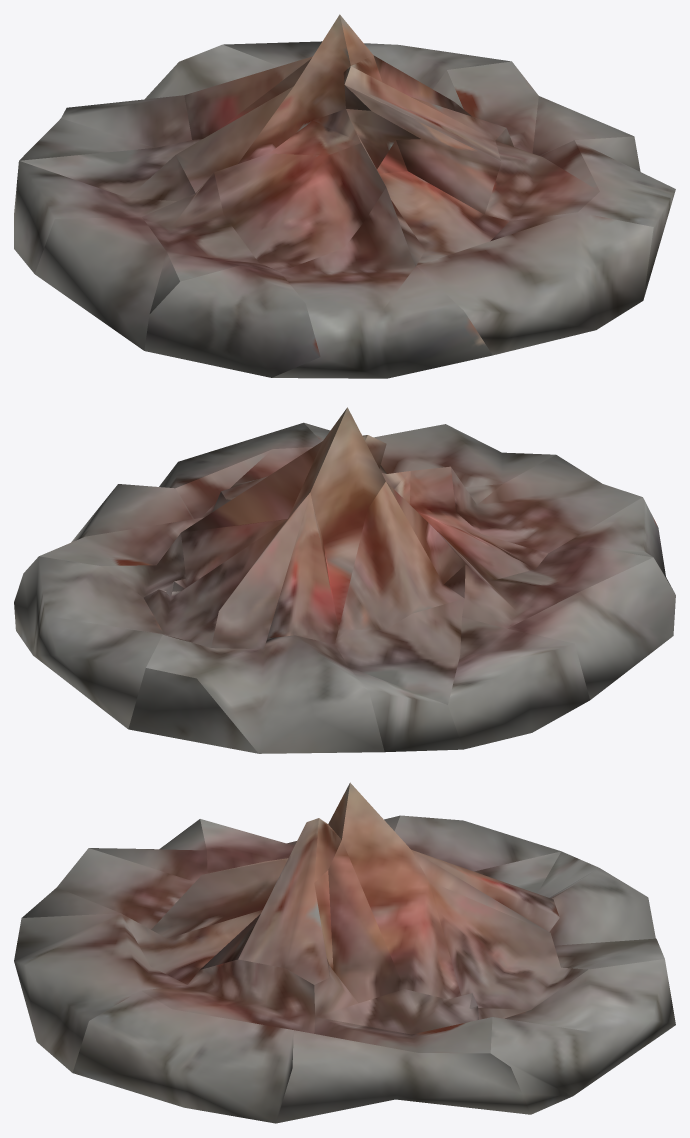
The model's file is Hearth_lod.glb.
The picture shows the model from 3 angles, top to bottom: view 1: azimuth 30°, elevation 25°; view 2: azimuth 150°, elevation 25°; view 3: azimuth 270°, elevation 25°; orthographic projection. The views are drawn at different scales.
Visible parts, largest first — view 1: Hearth; view 2: Hearth; view 3: Hearth.
Part boxes in pixels (box(x1,y1,x2,y2)): Hearth: box(14, 14, 675, 378); Hearth: box(14, 407, 675, 753); Hearth: box(14, 782, 675, 1123).
Size of the model in its own units: 0.9062 by 0.3529 by 0.9823.
1 material, 1 textured.
